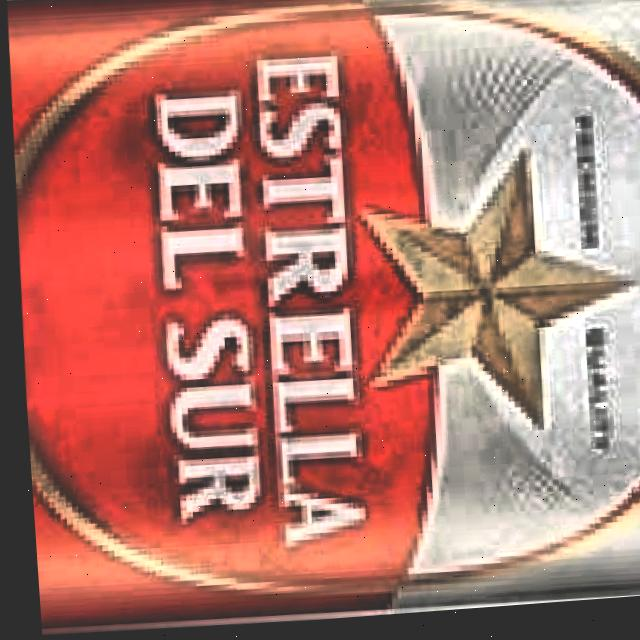metal: (6, 0, 640, 634)
